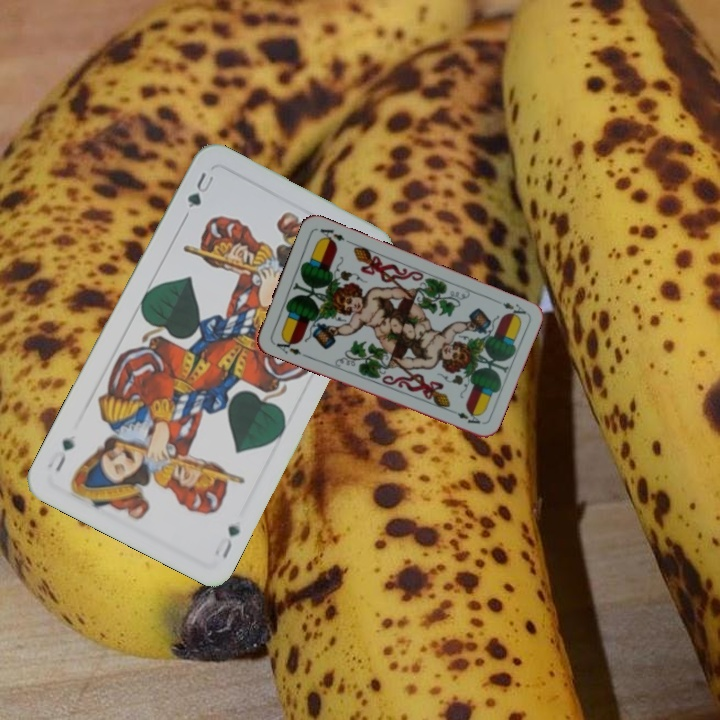EA: (272, 334, 304, 358), (498, 298, 529, 321)
GU: (180, 168, 217, 220), (218, 521, 243, 561)
